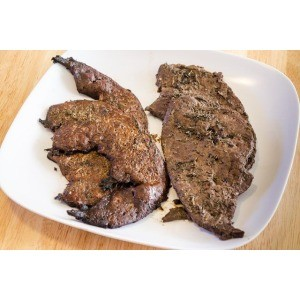liver_brain food: (60, 98, 124, 202), (165, 106, 220, 194)
